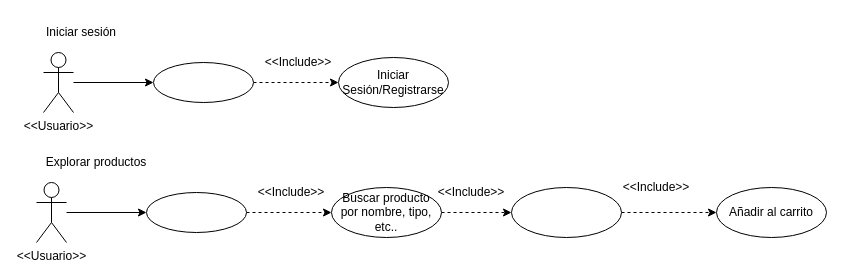
Some shapes in this 844 by 280 pixel diagram are drawn without their labels. Here are the shapes that lost their labels. From the top down, the box of each, then its label:
(152, 62, 254, 102): Ir a comprar producto
(146, 192, 246, 232): Entrar en el almacén
(510, 186, 622, 238): Seleccionar producto
